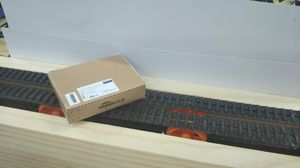box2: (45, 52, 145, 124)
